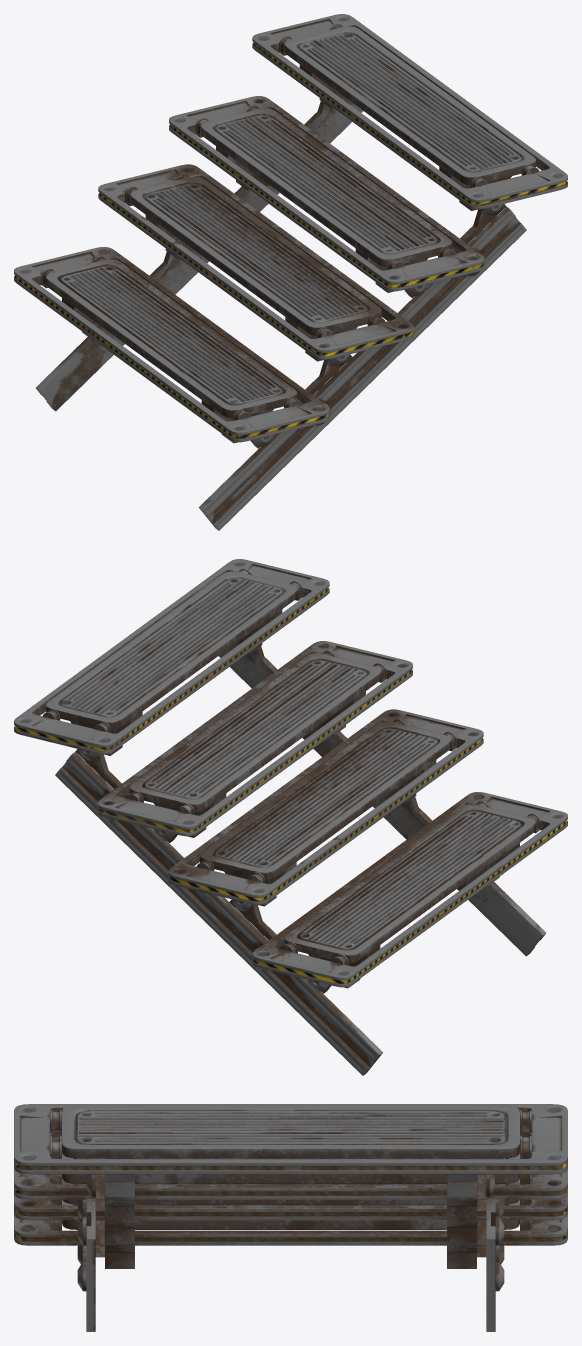
Rendered from ESCALERA.glb.
The picture shows the model from 3 angles, top to bottom: view 1: azimuth 30°, elevation 25°; view 2: azimuth 150°, elevation 25°; view 3: azimuth 270°, elevation 25°; orthographic projection. The views are drawn at different scales.
Visible parts, largest first — view 1: Object005_Wall_Paint_0; view 2: Object005_Wall_Paint_0; view 3: Object005_Wall_Paint_0.
Boxes of the visible parts, left/top/right/bottom form: Object005_Wall_Paint_0: left=14, top=14, right=567, bottom=530; Object005_Wall_Paint_0: left=14, top=559, right=567, bottom=1075; Object005_Wall_Paint_0: left=14, top=1104, right=567, bottom=1331.
Bounding box in the file's own units: 10.42 × 8.82 × 12.
Materials: 1 (1 with a texture image).
